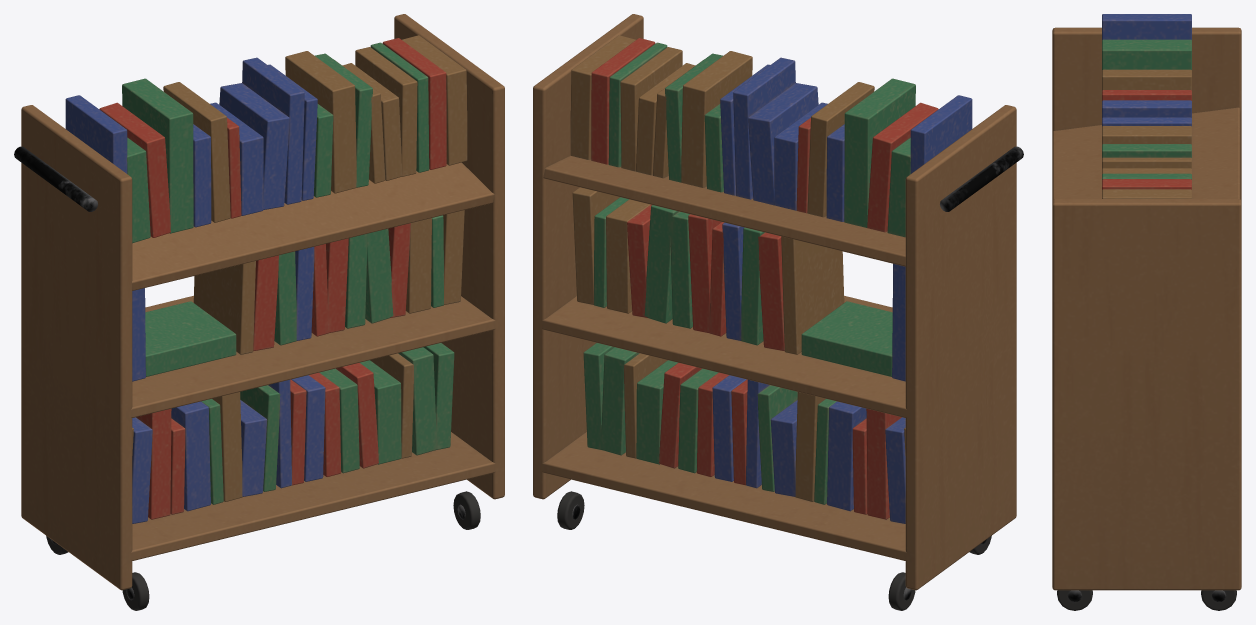
The model's file is carrito_libros.glb.
3 renders of one model, left to right at view 1: azimuth 30°, elevation 25°; view 2: azimuth 150°, elevation 25°; view 3: azimuth 270°, elevation 25°, orthographic. The views are drawn at different scales.
Parts seen in each view (by area): view 1: carrito_libros; view 2: carrito_libros; view 3: carrito_libros.
Boxes of the visible parts, left/top/right/bottom form: carrito_libros: left=14, top=14, right=504, bottom=610; carrito_libros: left=533, top=14, right=1023, bottom=610; carrito_libros: left=1052, top=14, right=1241, bottom=610.
Size of the model in its own units: 0.98 by 1.08 by 0.42.
Materials: 1 (1 with a texture image).
